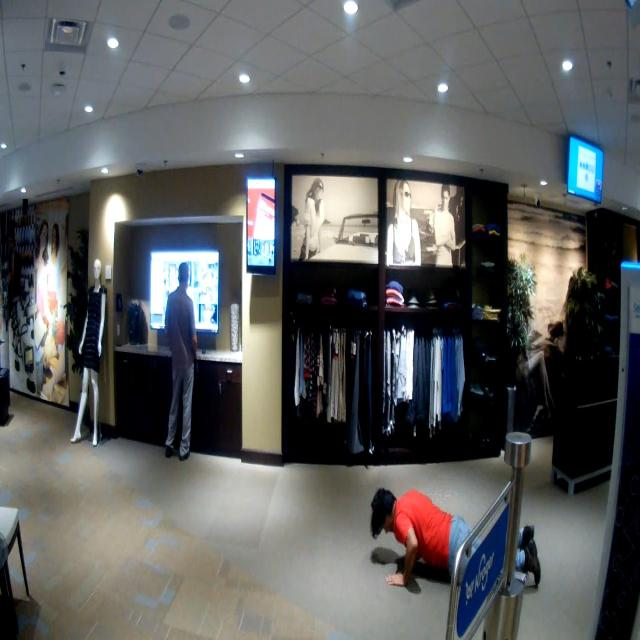fall: (350, 466, 553, 610)
normal: (156, 244, 208, 474)
